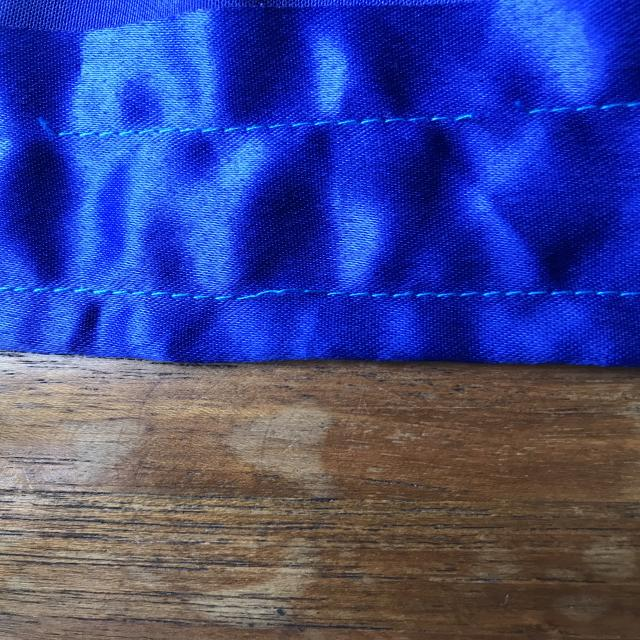broken: (447, 91, 563, 140)
good: (155, 113, 337, 147)
skip: (218, 266, 364, 322)
